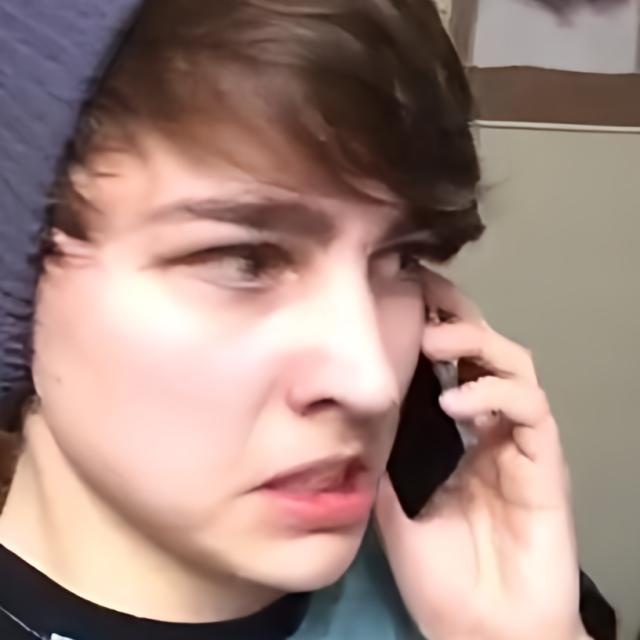disgust: (30, 1, 428, 594)
